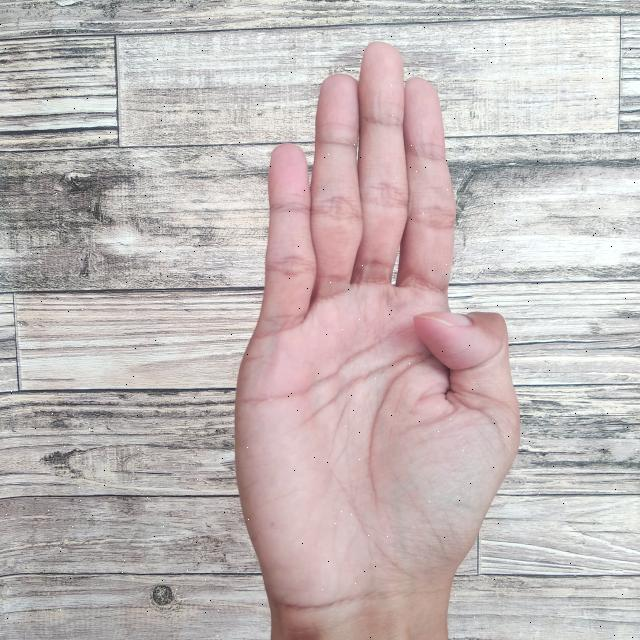B: (225, 35, 526, 640)
